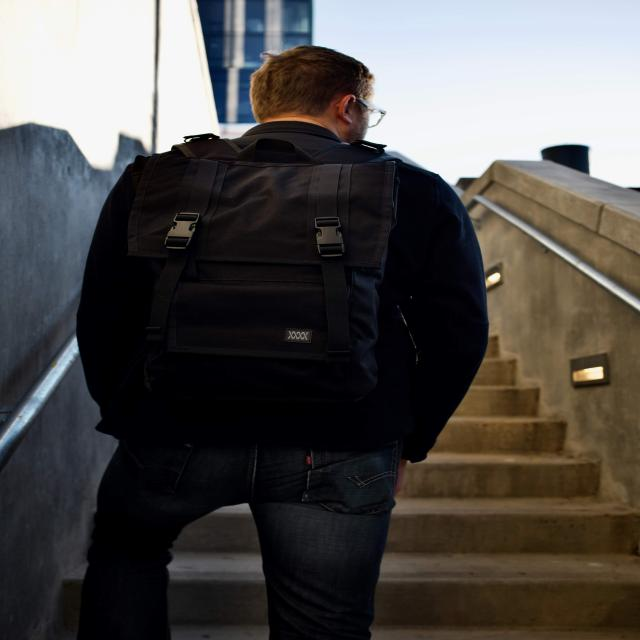backpack: (108, 129, 406, 401)
